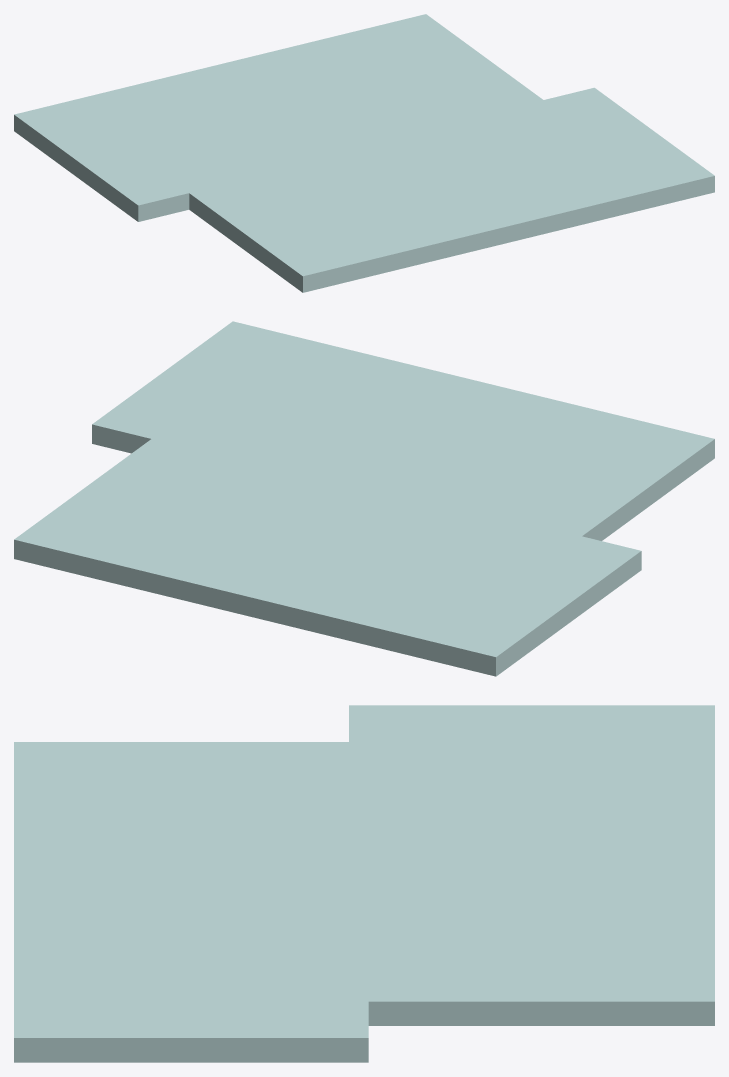
Rendered from Plate1.fbx.
3 renders of one model, top to bottom at view 1: azimuth 30°, elevation 25°; view 2: azimuth 150°, elevation 25°; view 3: azimuth 270°, elevation 25°, orthographic. The views are drawn at different scales.
Parts seen in each view (by area): view 1: Cube; view 2: Cube; view 3: Cube.
Part boxes in pixels (x1=…): Cube: x1=14, y1=14, x2=714, y2=292; Cube: x1=14, y1=321, x2=714, y2=676; Cube: x1=14, y1=705, x2=714, y2=1062.
Bounding box in the file's own units: 1820 × 62.36 × 1620.
1 material, 1 textured.
